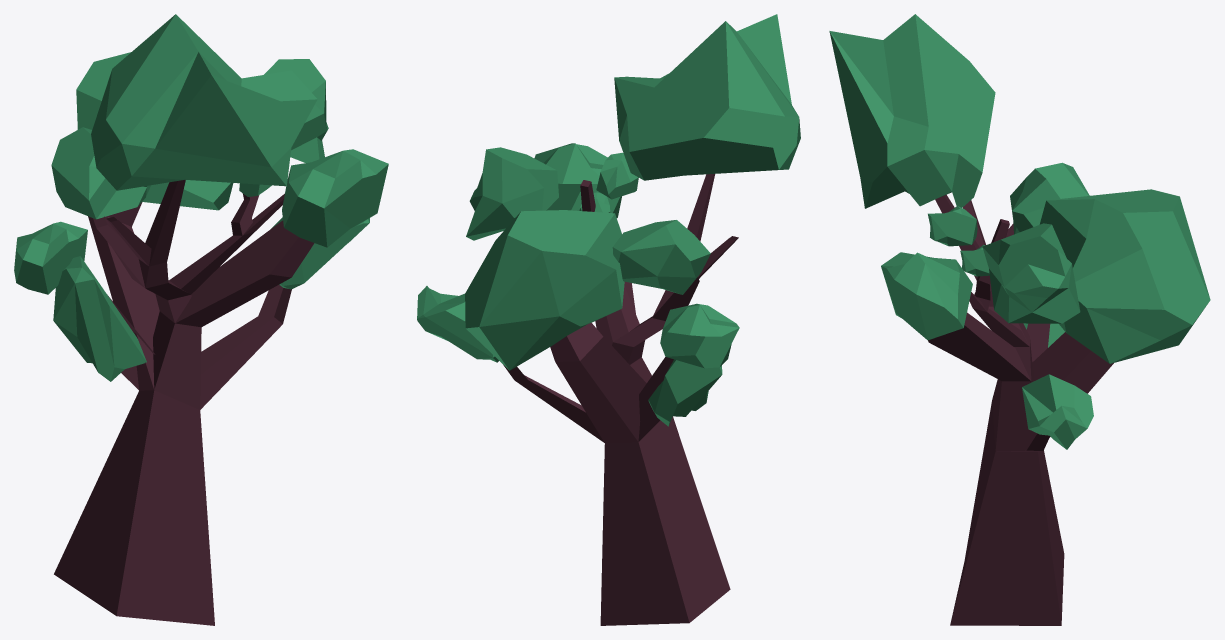
The model's file is treedecor2.fbx.
The picture shows the model from 3 angles, left to right: view 1: azimuth 30°, elevation 25°; view 2: azimuth 150°, elevation 25°; view 3: azimuth 270°, elevation 25°; orthographic projection. The views are drawn at different scales.
Visible parts, largest first — view 1: Icosphere.006, Icosphere.007; view 2: Icosphere.006, Icosphere.007; view 3: Icosphere.006.
Boxes of the visible parts, <box> form: Icosphere.006: <box>14,14,388,625</box>; Icosphere.007: <box>53,256,146,381</box>; Icosphere.006: <box>417,14,800,625</box>; Icosphere.007: <box>648,359,722,426</box>; Icosphere.006: <box>829,14,1210,625</box>.
Size of the model in its own units: 5012 by 8652 by 5105.
